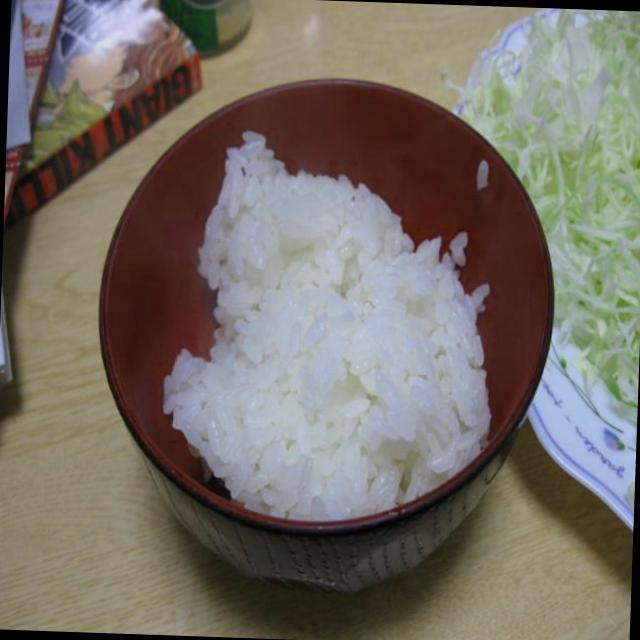Rice: (162, 120, 502, 536)
